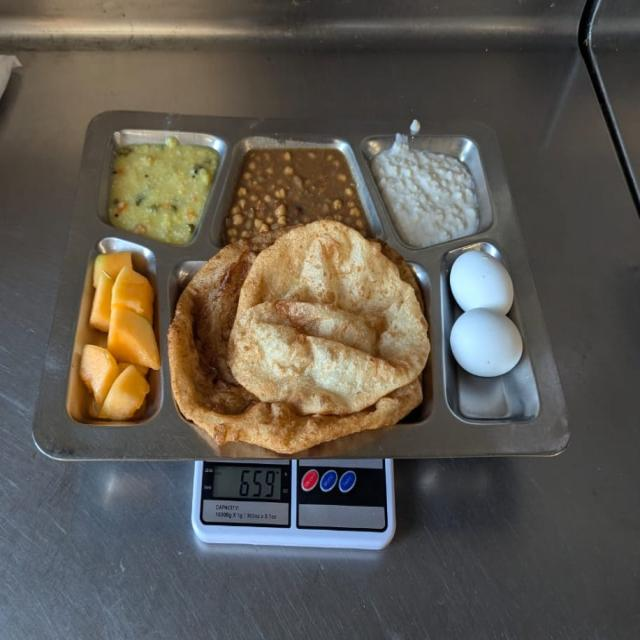Bhatura: (168, 222, 430, 455)
Boiled Egg: (441, 244, 525, 388)
Dal: (226, 146, 364, 225)
Khichdi: (100, 140, 219, 249)
Muskmelon: (76, 253, 161, 422)
Porridge: (379, 149, 487, 246)
